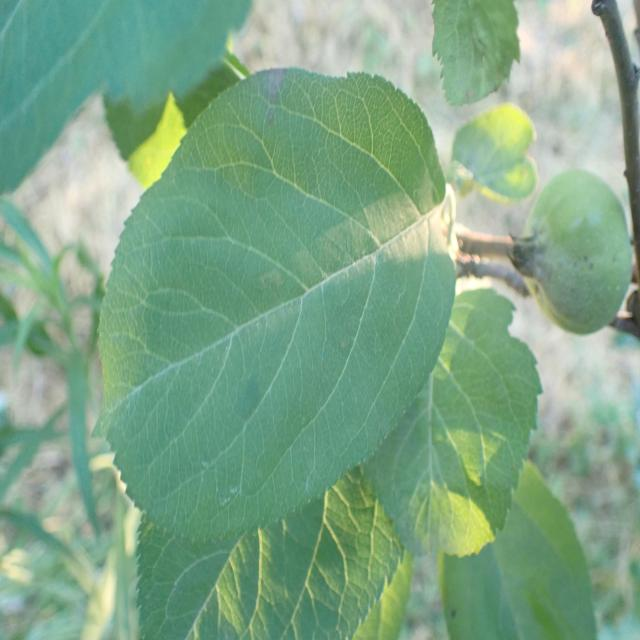healthy: (91, 65, 456, 545), (0, 0, 255, 199), (361, 284, 544, 558), (135, 463, 407, 640), (438, 456, 598, 640), (522, 168, 633, 336), (448, 102, 537, 204)
